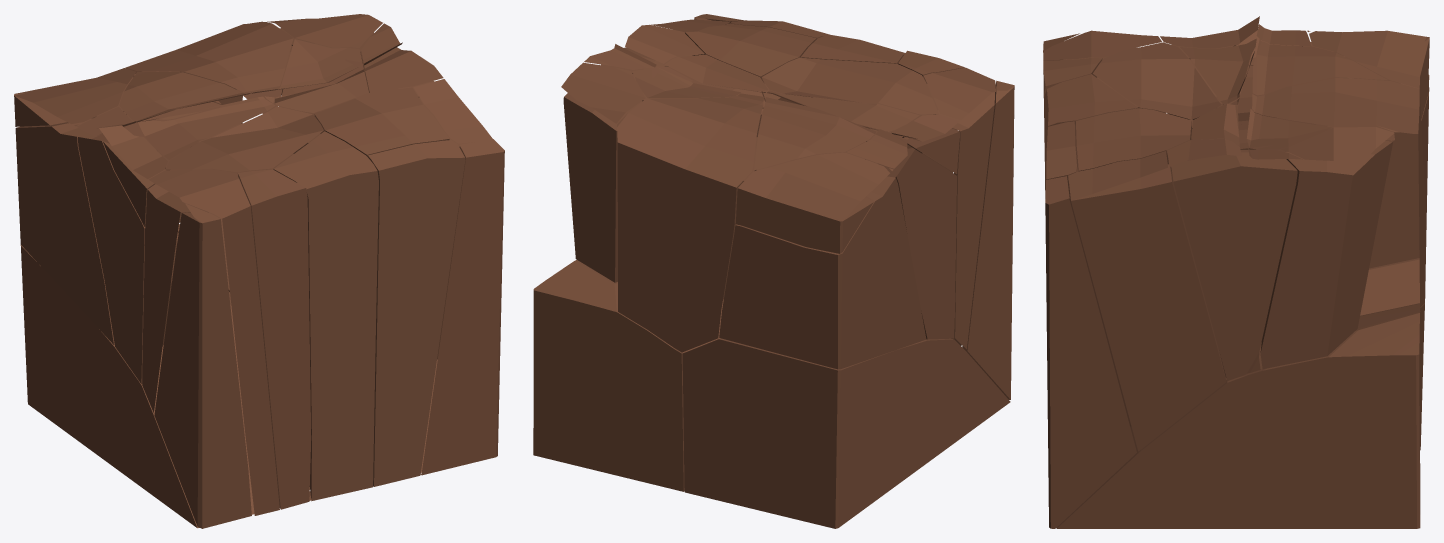
File: CardboardBox_3_Fracture.fbx
3 views of the same model, side by side, from view 1: azimuth 30°, elevation 25°; view 2: azimuth 150°, elevation 25°; view 3: azimuth 270°, elevation 25° (orthographic). The views are drawn at different scales.
Parts seen in each view (by area): view 1: Cube.003_cell.009, Cube.003_cell.013, Cube.003_cell.022, Cube.003_cell.006, Cube.003_cell.018, Cube.003_cell.003, Cube.003_cell.010, Cube.003_cell.021, Cube.003_cell.027, Cube.003_cell.019, Cube.003_cell.011, Cube.003_cell.016 (+12 smaller); view 2: Cube.003_cell.006, Cube.003_cell.019, Cube.003_cell.002, Cube.003_cell.021, Cube.003_cell.017, Cube.003_cell.020, Cube.003_cell.022, Cube.003_cell.003, Cube.003_cell.027, Cube.003_cell.011, Cube.003_cell.005, Cube.003_cell.004 (+11 smaller); view 3: Cube.003_cell.002, Cube.003_cell.012, Cube.003_cell.017, Cube.003_cell.018, Cube.003_cell.001, Cube.003_cell.019, Cube.003_cell.011, Cube.003_cell.021, Cube.003_cell.016, Cube.003_cell.020, Cube.003_cell.005, Cube.003_cell.004 (+10 smaller).
Boxes of the visible parts, left/top/right/bottom form: Cube.003_cell.009: left=273, top=131, right=378, bottom=501; Cube.003_cell.013: left=367, top=140, right=465, bottom=486; Cube.003_cell.022: left=154, top=203, right=251, bottom=528; Cube.003_cell.006: left=20, top=232, right=309, bottom=528; Cube.003_cell.018: left=420, top=139, right=504, bottom=475; Cube.003_cell.003: left=142, top=169, right=279, bottom=515; Cube.003_cell.010: left=237, top=169, right=311, bottom=509; Cube.003_cell.021: left=15, top=111, right=176, bottom=344; Cube.003_cell.027: left=78, top=134, right=171, bottom=383; Cube.003_cell.019: left=125, top=21, right=293, bottom=222; Cube.003_cell.011: left=165, top=106, right=323, bottom=172; Cube.003_cell.016: left=314, top=87, right=449, bottom=156; Cube.003_cell.006: left=682, top=338, right=1010, bottom=528; Cube.003_cell.019: left=617, top=91, right=765, bottom=352; Cube.003_cell.002: left=533, top=260, right=723, bottom=491; Cube.003_cell.021: left=719, top=176, right=926, bottom=369; Cube.003_cell.017: left=561, top=62, right=645, bottom=282; Cube.003_cell.020: left=735, top=152, right=889, bottom=253; Cube.003_cell.022: left=962, top=80, right=1014, bottom=399; Cube.003_cell.003: left=923, top=67, right=995, bottom=349; Cube.003_cell.027: left=865, top=144, right=956, bottom=339; Cube.003_cell.011: left=762, top=57, right=938, bottom=114; Cube.003_cell.005: left=754, top=97, right=875, bottom=170; Cube.003_cell.004: left=632, top=54, right=768, bottom=299; Cube.003_cell.002: left=1056, top=303, right=1424, bottom=528; Cube.003_cell.012: left=1068, top=151, right=1226, bottom=451; Cube.003_cell.017: left=1260, top=127, right=1394, bottom=369; Cube.003_cell.018: left=1045, top=176, right=1136, bottom=528; Cube.003_cell.001: left=1171, top=147, right=1302, bottom=380; Cube.003_cell.019: left=1230, top=78, right=1426, bottom=310; Cube.003_cell.011: left=1093, top=42, right=1221, bottom=119; Cube.003_cell.021: left=1302, top=41, right=1429, bottom=268; Cube.003_cell.016: left=1076, top=108, right=1191, bottom=171; Cube.003_cell.020: left=1309, top=30, right=1429, bottom=119; Cube.003_cell.005: left=1252, top=39, right=1387, bottom=95; Cube.003_cell.004: left=1191, top=104, right=1331, bottom=377.
Bounding box in the file's own units: 61.06 × 64.25 × 60.5.
